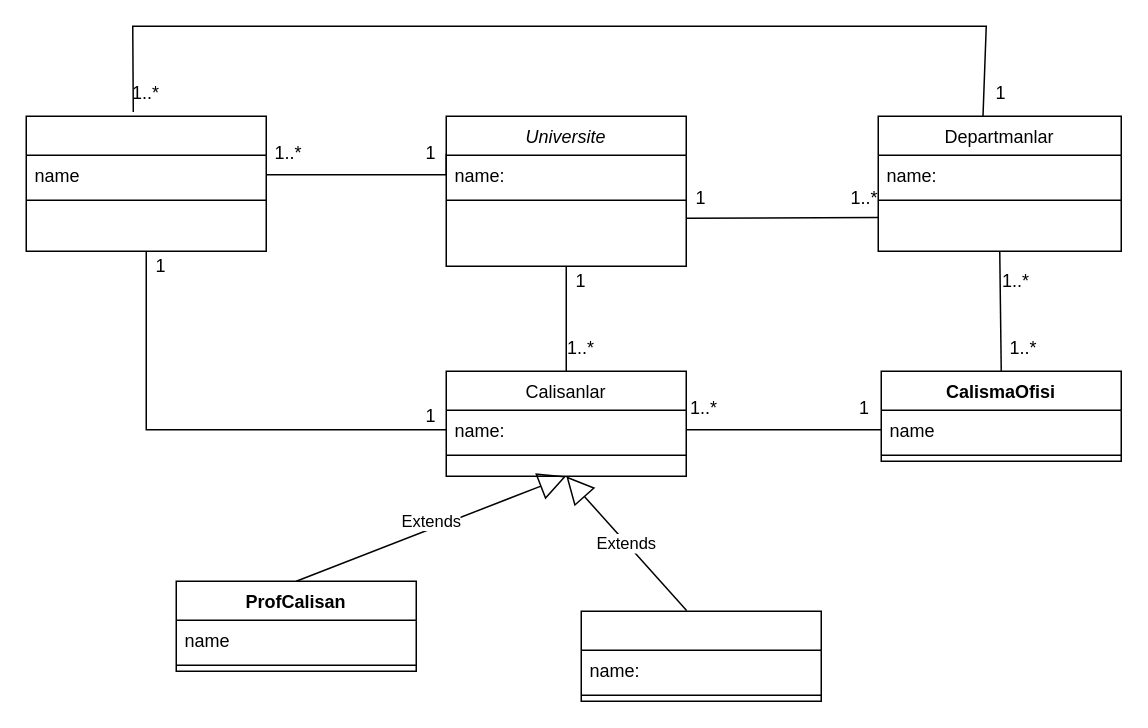
The diagram is 1148 pixels wide and 728 high, and some of its shapes have lost their labels. Here are the shapes that lost their labels. From the top down, the box of each, then its label:
(25, 115, 266, 251): Siniflar
(580, 610, 821, 701): MemurCalisan
